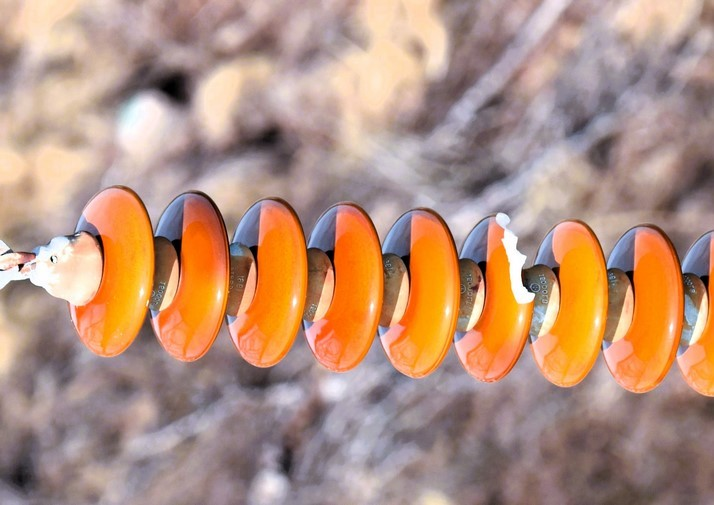insulator breakage: (446, 203, 536, 385)
